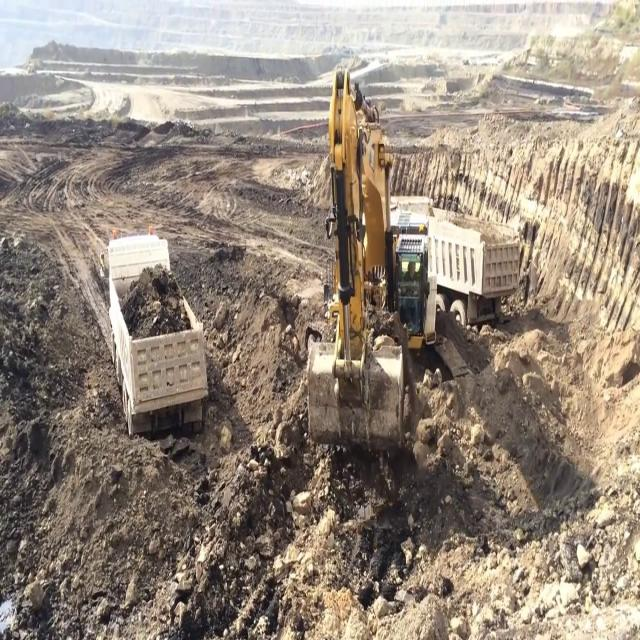excavator: (303, 69, 428, 466)
